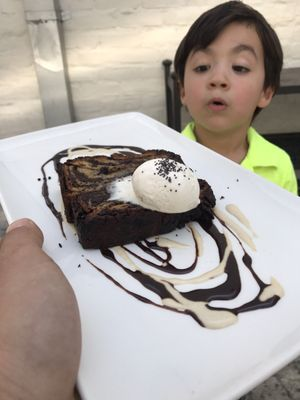pizza: (171, 0, 300, 198)
